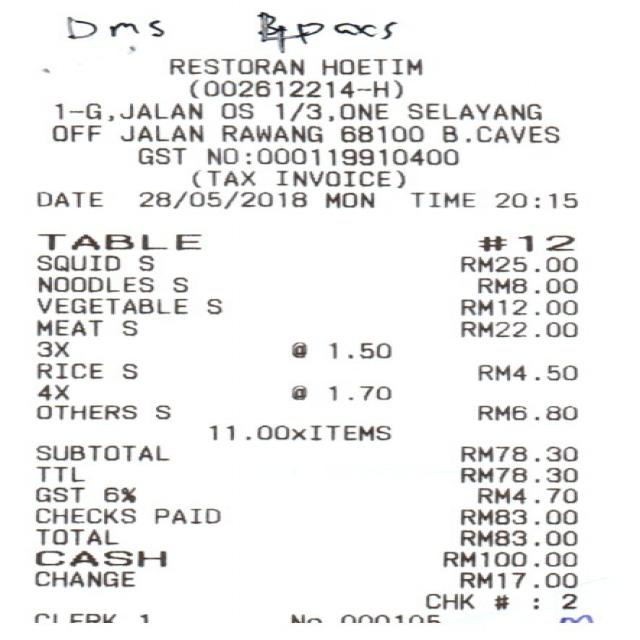text: (204, 146, 455, 164), (186, 79, 399, 96), (206, 424, 388, 440), (136, 190, 303, 207), (35, 232, 198, 249), (36, 296, 185, 312), (166, 57, 301, 74), (404, 102, 538, 119), (32, 548, 162, 565), (273, 169, 402, 186), (33, 444, 166, 460), (273, 101, 384, 120), (441, 550, 575, 565), (458, 507, 576, 524), (458, 528, 575, 545), (458, 297, 574, 314), (439, 125, 555, 141), (458, 320, 574, 336), (458, 466, 574, 482), (458, 570, 574, 586), (32, 569, 133, 586), (36, 275, 150, 290), (319, 57, 419, 74), (476, 276, 576, 292), (476, 363, 576, 379), (220, 124, 319, 140), (32, 507, 131, 523), (475, 234, 571, 250), (35, 404, 134, 419), (476, 487, 574, 502), (118, 124, 201, 141), (119, 102, 200, 119), (476, 404, 574, 418), (33, 254, 116, 270), (338, 125, 420, 141), (491, 192, 574, 207), (33, 317, 98, 334), (33, 361, 98, 378), (190, 169, 252, 186), (54, 102, 112, 120), (33, 190, 98, 206), (458, 254, 519, 271), (153, 507, 217, 523), (410, 190, 472, 206), (458, 445, 523, 460), (49, 528, 114, 543), (327, 341, 387, 357), (422, 592, 472, 610), (327, 384, 387, 398), (337, 614, 436, 622), (49, 124, 97, 140), (136, 146, 182, 162), (33, 465, 81, 480), (33, 486, 81, 501), (324, 192, 371, 207), (530, 256, 574, 270), (543, 444, 575, 460), (218, 101, 249, 117), (35, 340, 65, 356), (101, 486, 133, 501), (69, 612, 113, 622), (35, 384, 65, 398), (134, 254, 150, 270), (559, 593, 575, 609), (289, 614, 319, 622), (287, 341, 302, 356), (287, 384, 302, 398), (120, 318, 133, 334), (120, 362, 133, 378), (170, 275, 183, 290), (205, 297, 218, 312), (32, 612, 53, 621), (153, 404, 166, 418), (137, 613, 149, 622)
